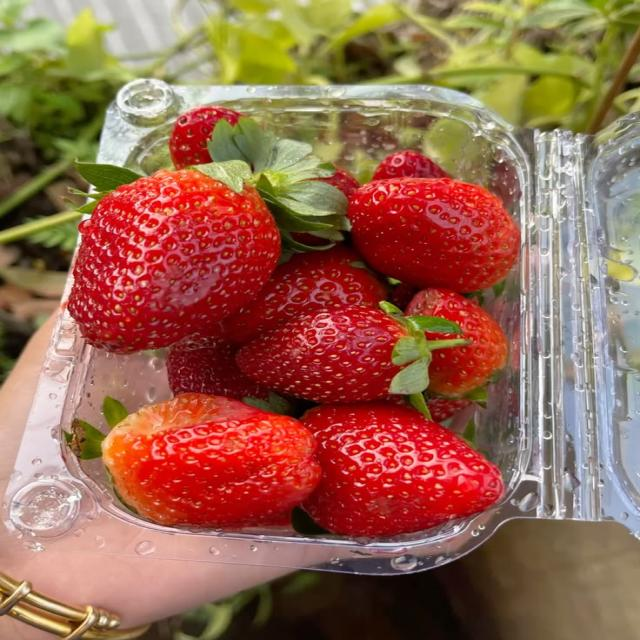strawberry: (69, 118, 346, 352), (68, 170, 280, 352), (102, 394, 319, 528), (301, 402, 503, 536), (237, 305, 459, 403), (348, 178, 519, 292), (217, 244, 386, 343), (406, 288, 508, 397), (167, 336, 268, 400), (169, 106, 242, 168), (372, 151, 449, 180), (415, 397, 473, 422), (316, 166, 359, 198), (318, 166, 360, 198), (427, 397, 473, 422), (389, 283, 419, 310)
